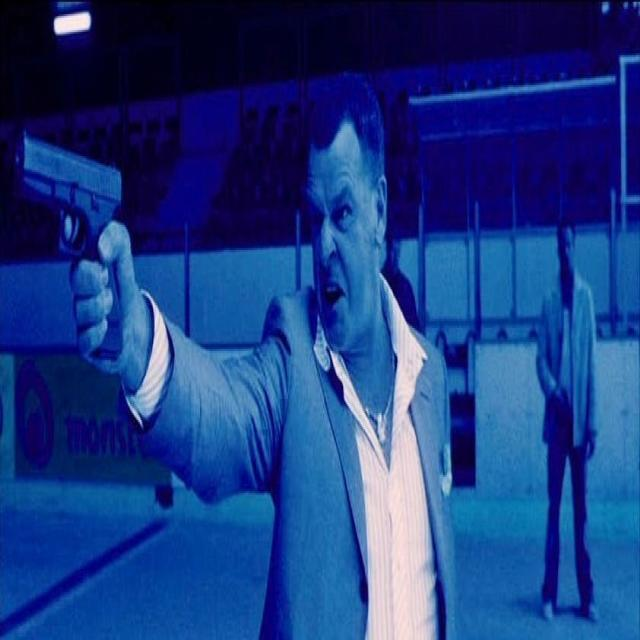gun-knife-thesis - v11 Yolov5 augmented: (12, 104, 136, 384)
